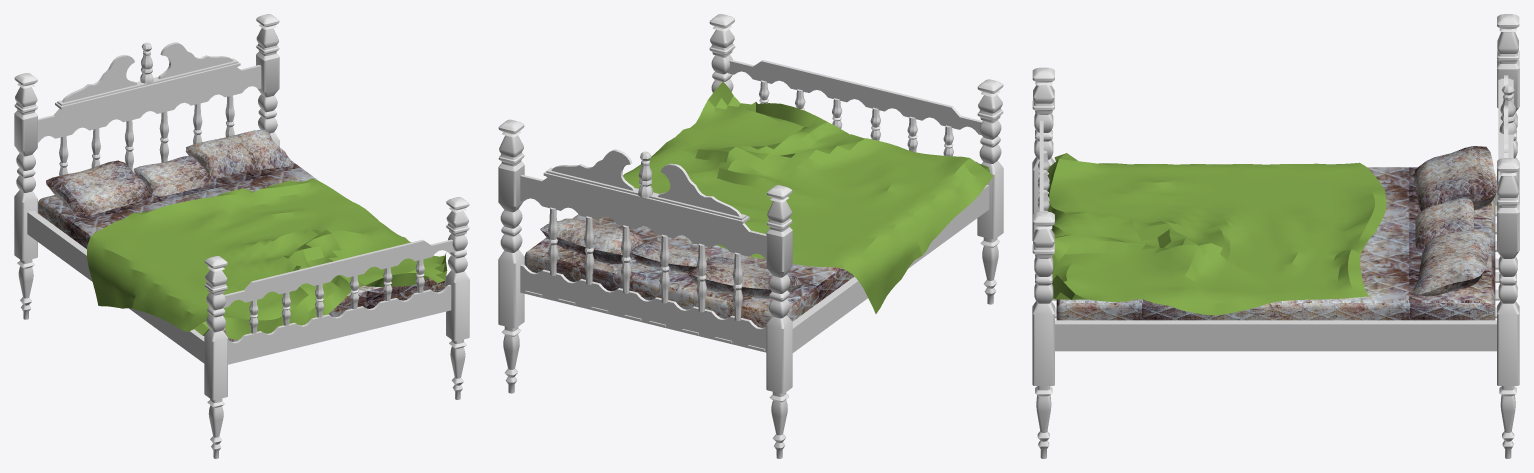
The model's file is Quarto.fbx.
3 views of the same model, side by side, from view 1: azimuth 30°, elevation 25°; view 2: azimuth 150°, elevation 25°; view 3: azimuth 270°, elevation 25° (orthographic). The views are drawn at different scales.
Parts seen in each view (by area): view 1: Cube.002; view 2: Cube.002; view 3: Cube.002.
Boxes of the visible parts, box(x1,y1,x2,y2) form: Cube.002: box(14, 14, 469, 458); Cube.002: box(498, 14, 1003, 458); Cube.002: box(1032, 14, 1519, 458).
Bounding box in the file's own units: 441 × 394 × 580.
